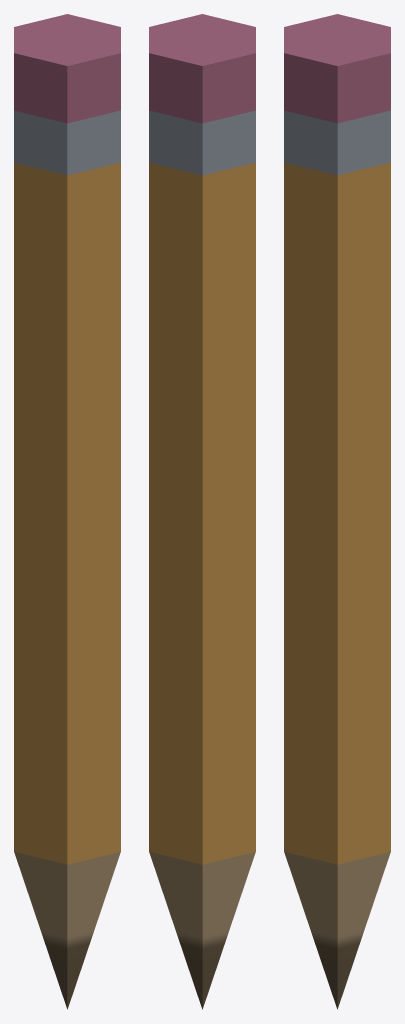
File: SM_Item_Pencil_01.fbx
The picture shows the model from 3 angles, left to right: view 1: azimuth 30°, elevation 25°; view 2: azimuth 150°, elevation 25°; view 3: azimuth 330°, elevation 25°; orthographic projection.
Visible parts, largest first — view 1: SM_Item_Pencil_01; view 2: SM_Item_Pencil_01; view 3: SM_Item_Pencil_01.
Part boxes in pixels (left/top/right/bottom): SM_Item_Pencil_01: left=14, top=14, right=120, bottom=1009; SM_Item_Pencil_01: left=149, top=14, right=255, bottom=1009; SM_Item_Pencil_01: left=284, top=14, right=390, bottom=1009.
Size of the model in its own units: 2.21 by 19.14 by 1.91.
